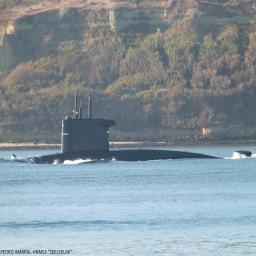submarine: (10, 96, 256, 168)
